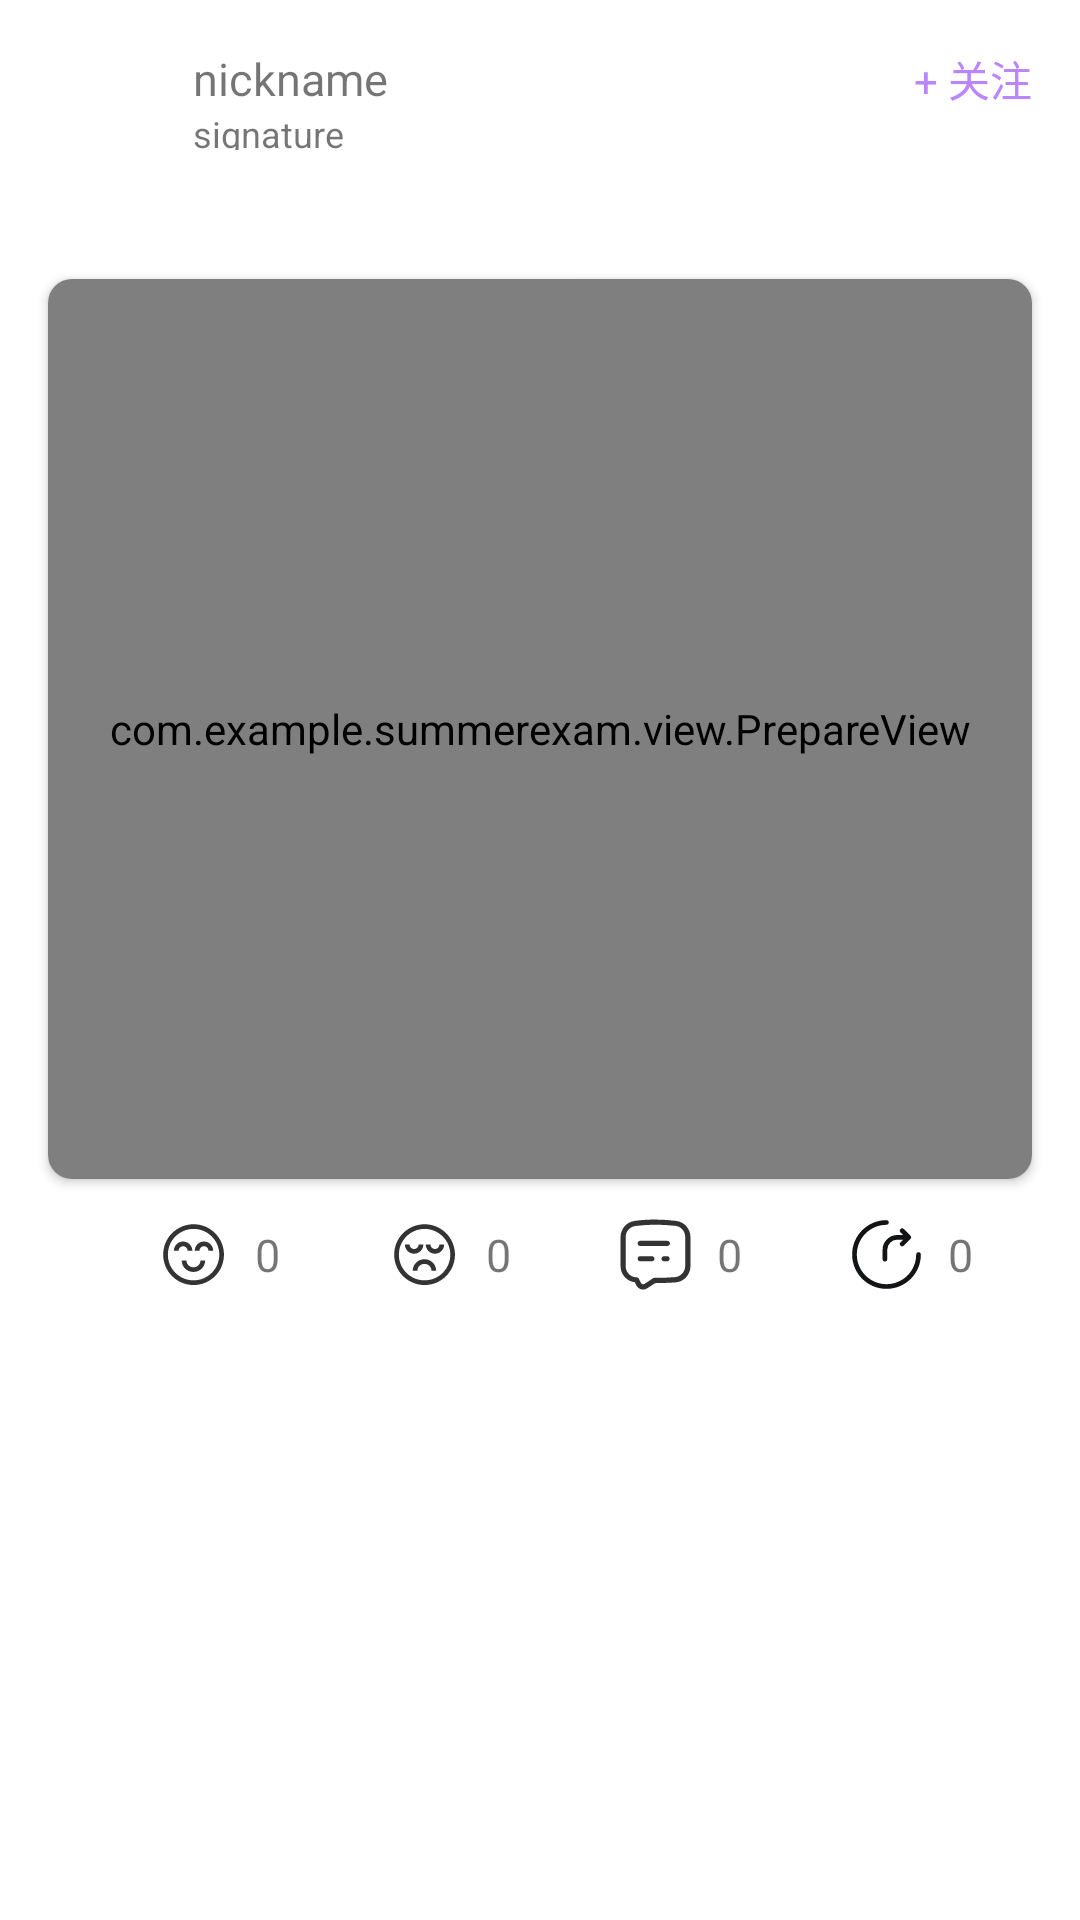

Point at icon controls on the screen. Image size 1080x1920, points as point (x, y).
comment: point (655, 1254)
dislike: point (424, 1254)
like: point (193, 1254)
share: point (886, 1254)
